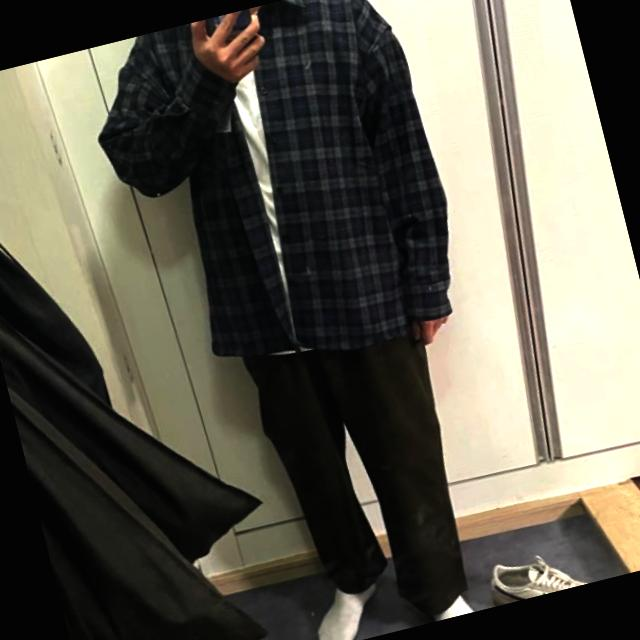shirt: (73, 0, 470, 393)
slacks: (239, 304, 489, 640)
